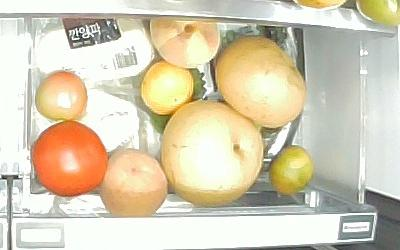peach: (98, 147, 169, 219), (148, 12, 221, 68)
pear: (160, 98, 264, 207), (215, 35, 307, 129)
tangerine: (140, 60, 195, 117), (268, 143, 314, 197)
tomato: (31, 120, 109, 197), (35, 70, 88, 123)
